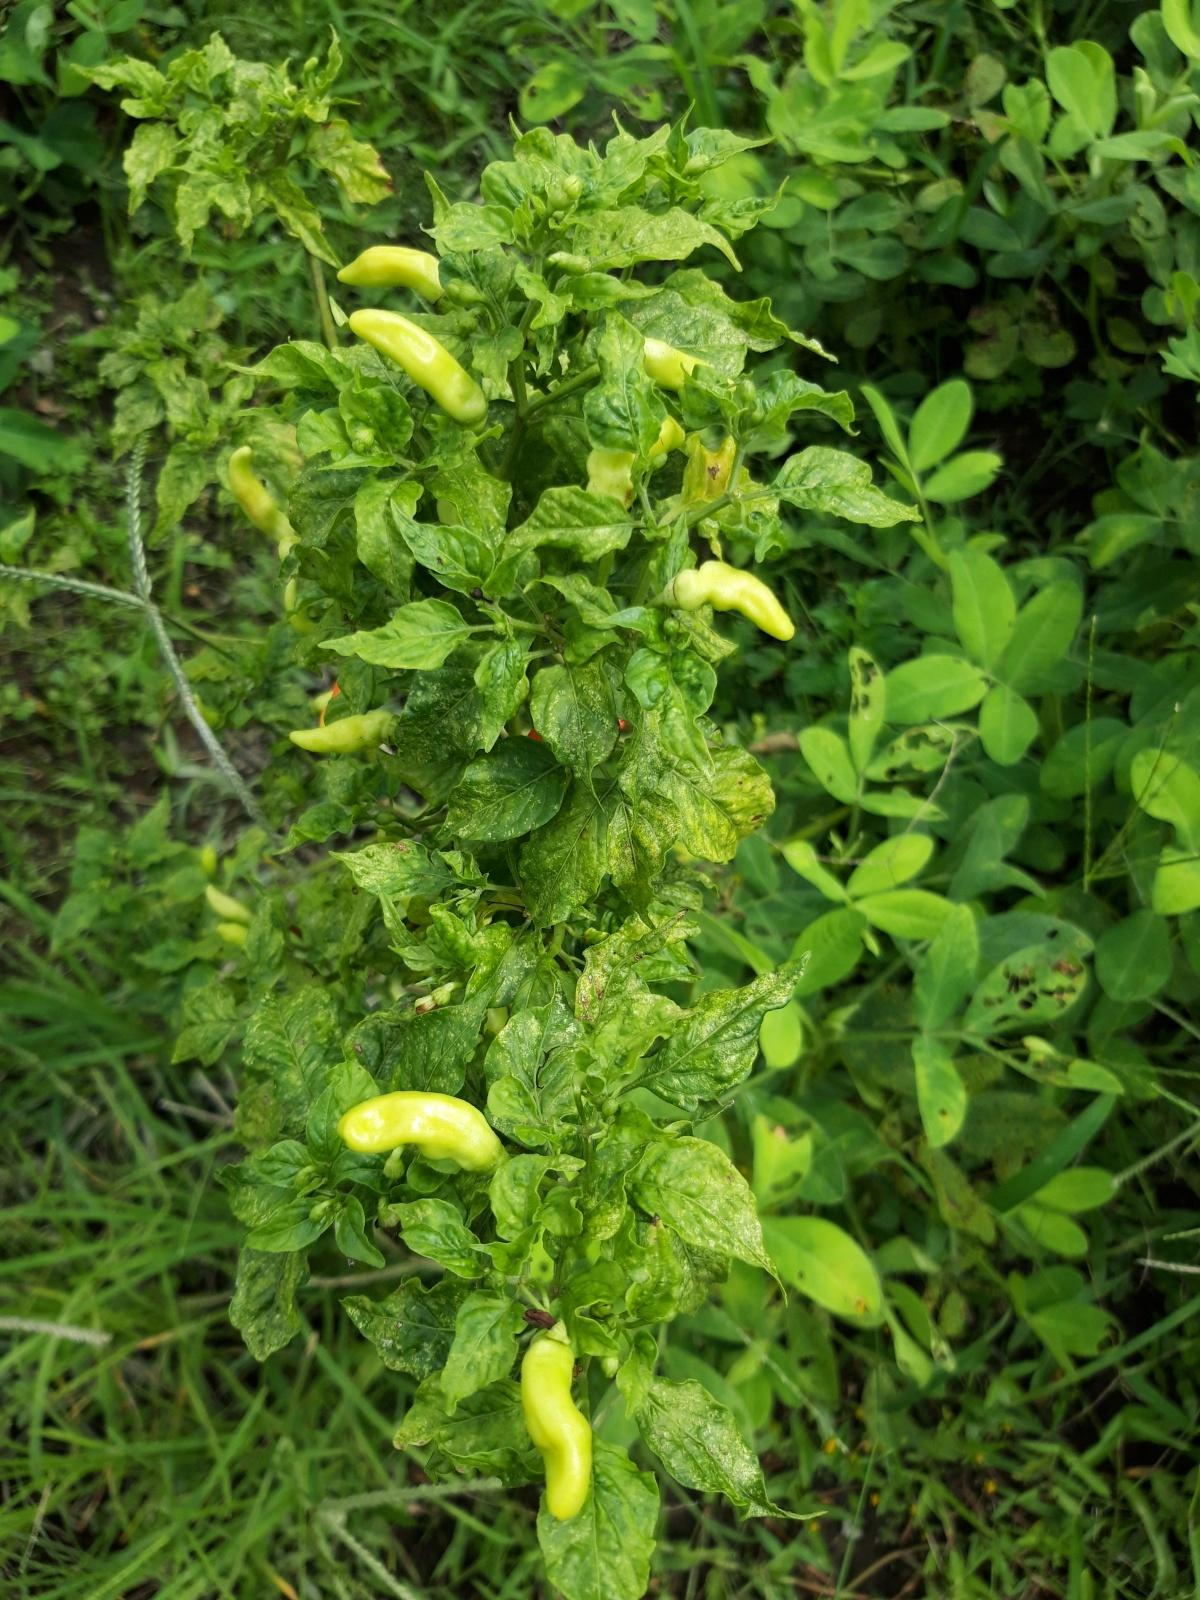cabai_normal: (349, 305, 492, 422), (519, 1323, 595, 1519), (339, 1090, 503, 1177), (674, 559, 795, 643), (338, 244, 489, 306), (227, 446, 301, 543), (289, 709, 403, 753)
